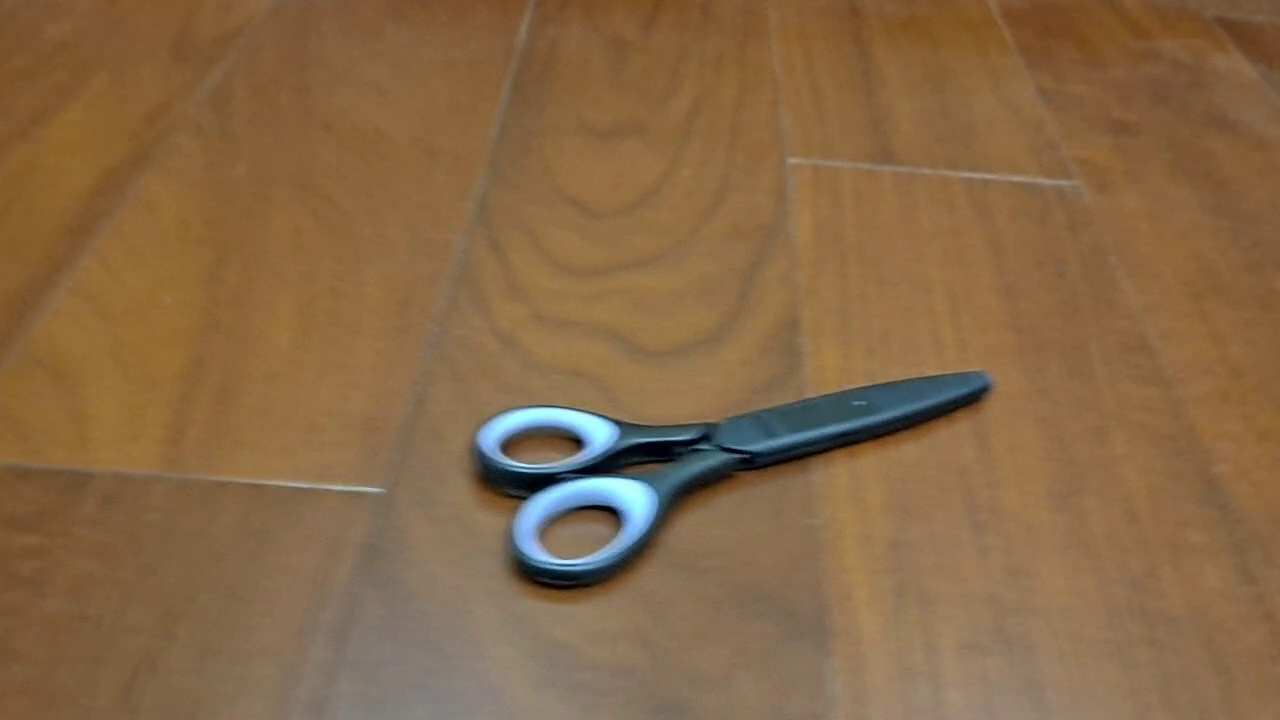scissors: (470, 367, 995, 592)
